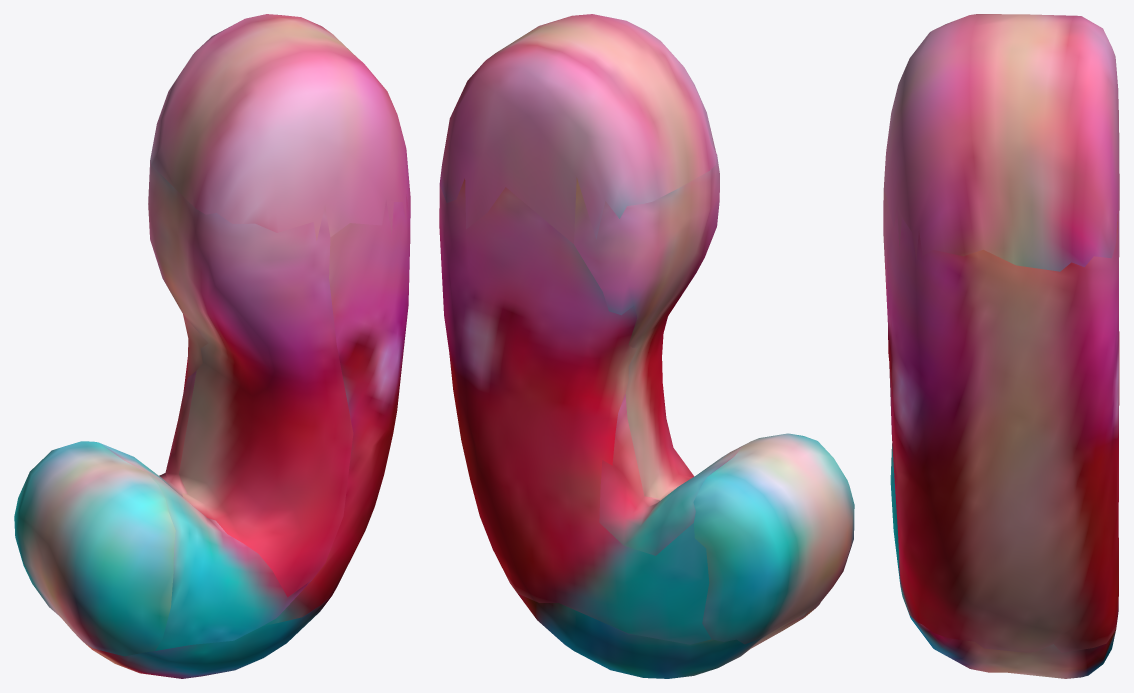
3 renders of one model, left to right at view 1: azimuth 30°, elevation 25°; view 2: azimuth 150°, elevation 25°; view 3: azimuth 270°, elevation 25°, orthographic. The views are drawn at different scales.
Parts seen in each view (by area): view 1: Candy-Letter-J; view 2: Candy-Letter-J; view 3: Candy-Letter-J.
Part boxes in pixels (x1,y1,x2,y2): Candy-Letter-J: [14, 14, 410, 678]; Candy-Letter-J: [439, 14, 854, 678]; Candy-Letter-J: [883, 14, 1119, 678].
Size of the model in its own units: 0.213 by 0.3432 by 0.1078.
1 material, 1 textured.
